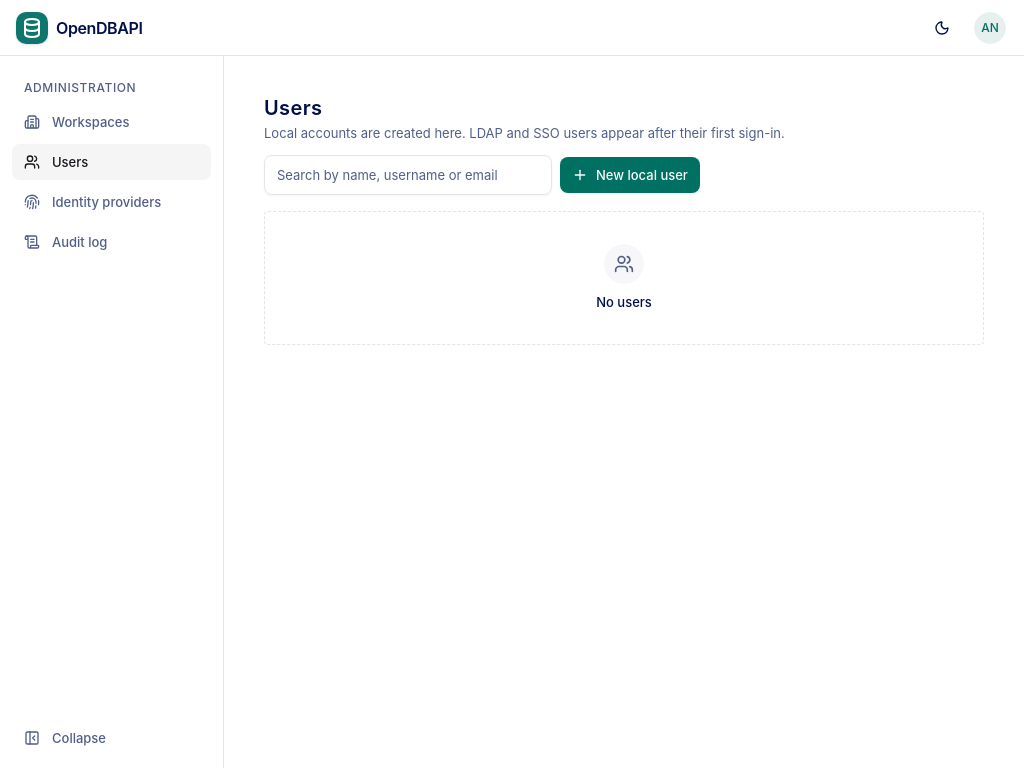
Users › creates a local user and shows the server's refusal verbatim
Click the button "New local user" at (630, 175), box top-left (560, 157), bottom-right (700, 193)
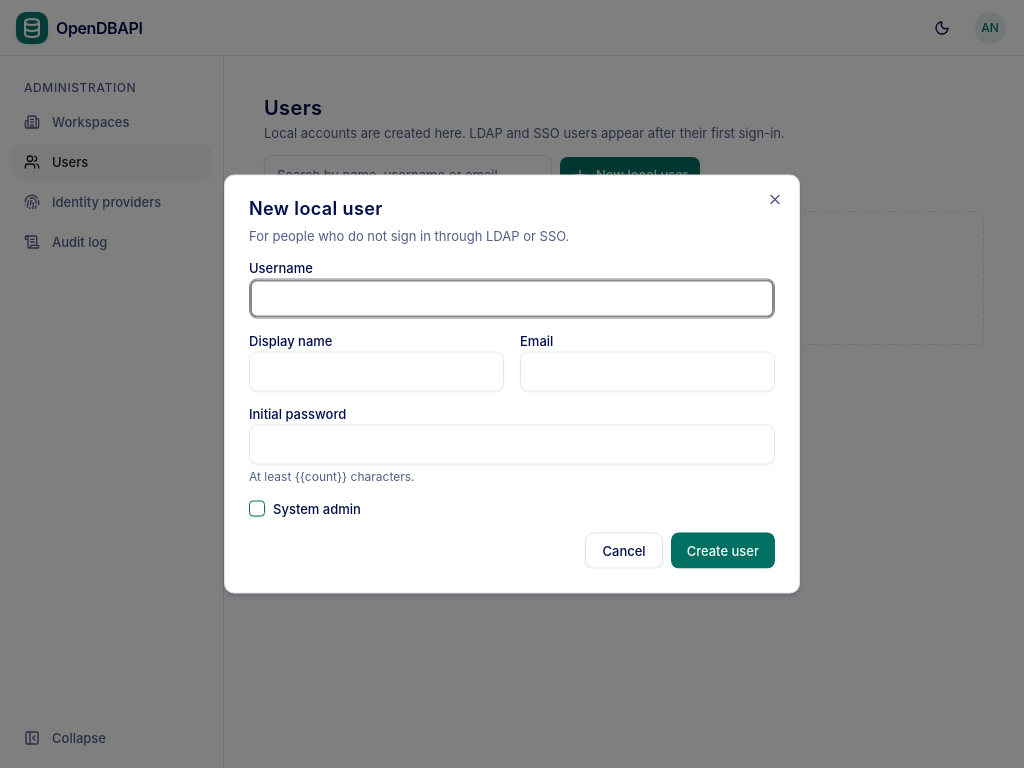
Type "carol" into the field labelled "Username" at (512, 298), box top-left (249, 278), bottom-right (775, 318)
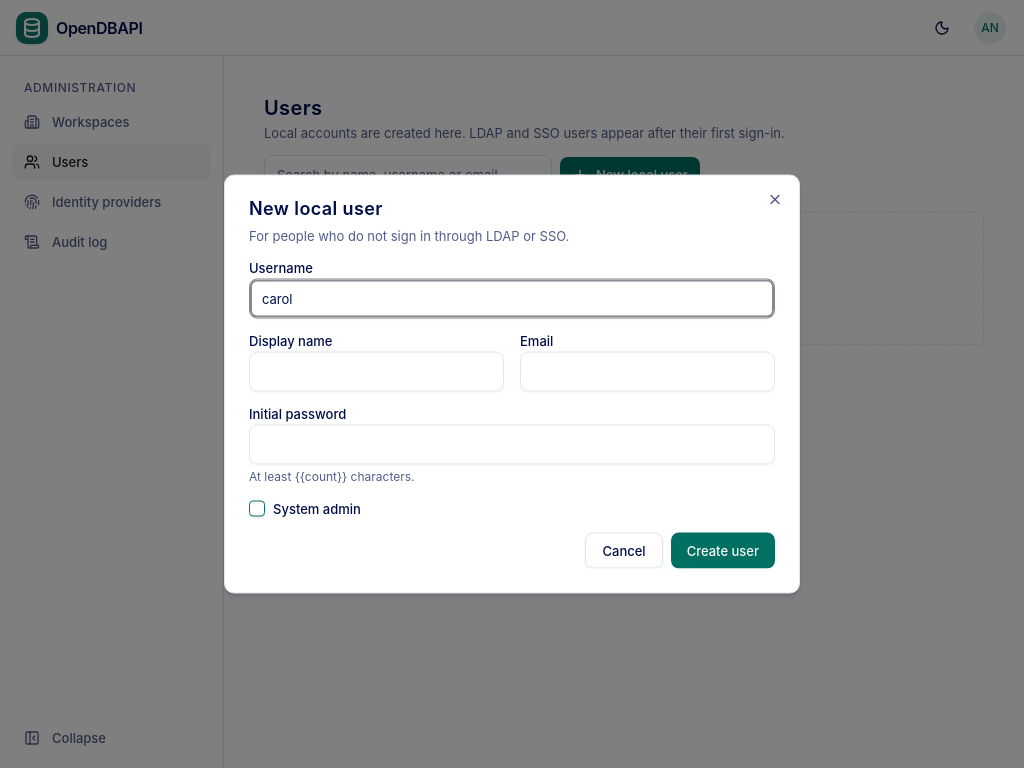
Type "a-long-password!" into the password field labelled "Initial password" at (512, 444), box top-left (249, 424), bottom-right (775, 464)
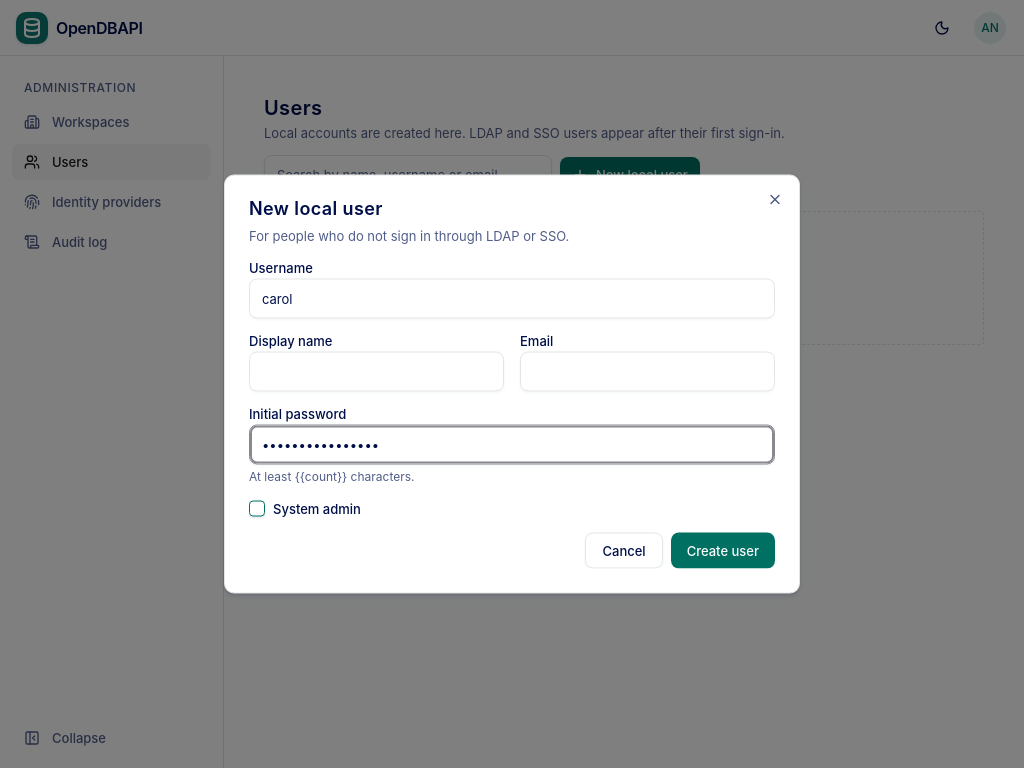
Click the checkbox named "System admin" at (257, 508), box top-left (249, 500), bottom-right (265, 516)
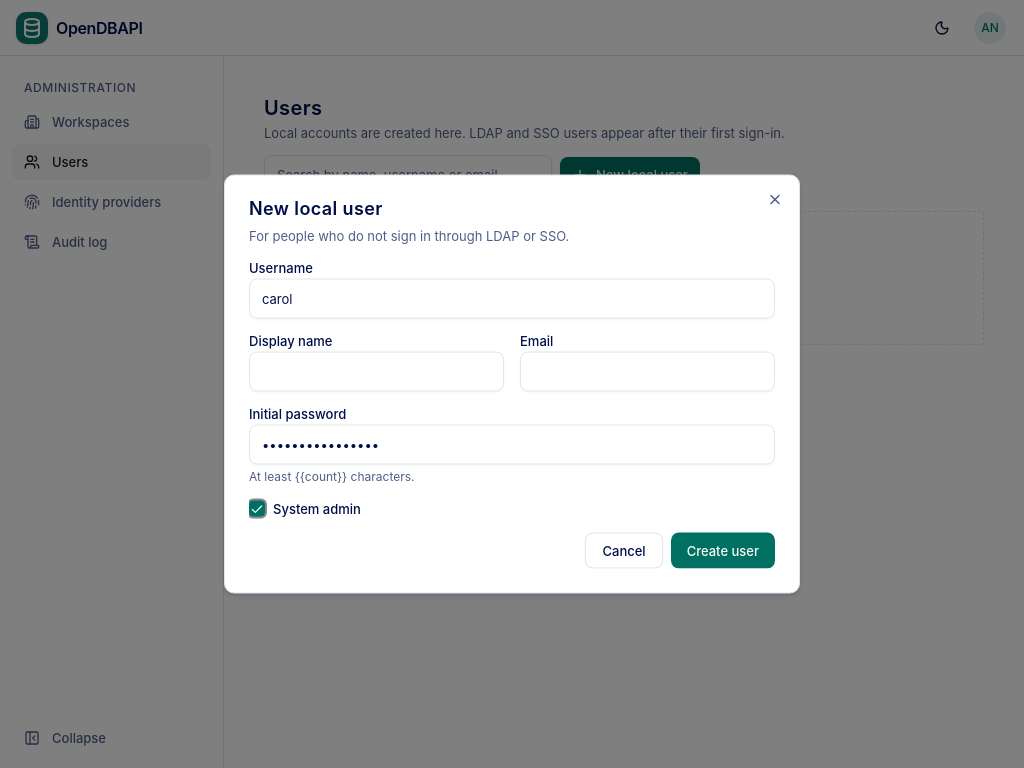
Click the button "Create user" at (723, 550), box top-left (671, 532), bottom-right (775, 568)
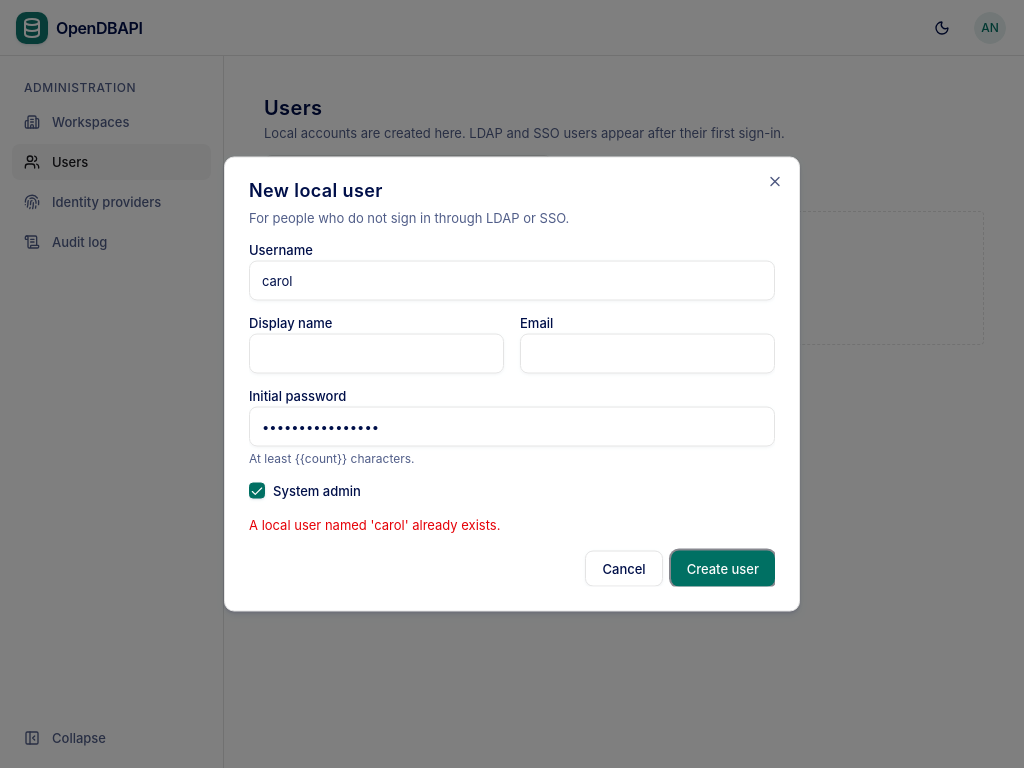
expect the message reads "A local user named 'carol' already exists.": met, box top-left (249, 516), bottom-right (500, 532)
